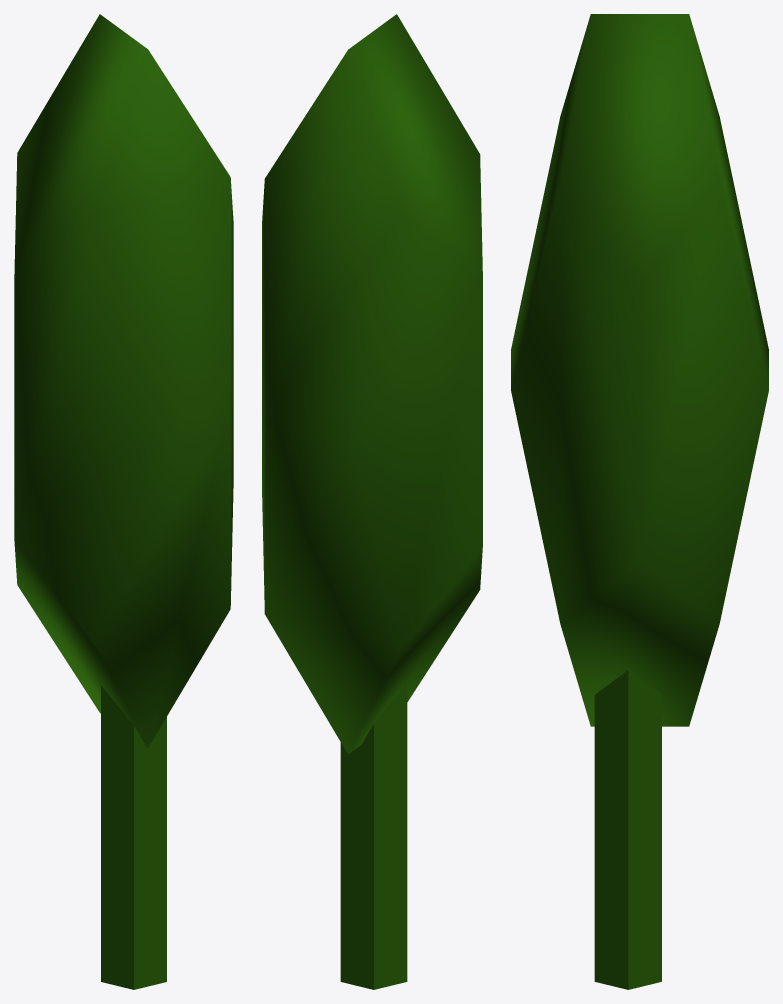
Rendered from Tree_Small.fbx.
3 views of the same model, side by side, from view 1: azimuth 30°, elevation 25°; view 2: azimuth 150°, elevation 25°; view 3: azimuth 270°, elevation 25° (orthographic).
Parts seen in each view (by area): view 1: pCylinder16; view 2: pCylinder16; view 3: pCylinder16.
Boxes of the visible parts, left/top/right/bottom form: pCylinder16: left=14, top=14, right=233, bottom=989; pCylinder16: left=262, top=14, right=482, bottom=989; pCylinder16: left=511, top=14, right=768, bottom=989.
Bounding box in the file's own units: 1.19 × 4.86 × 1.19.
